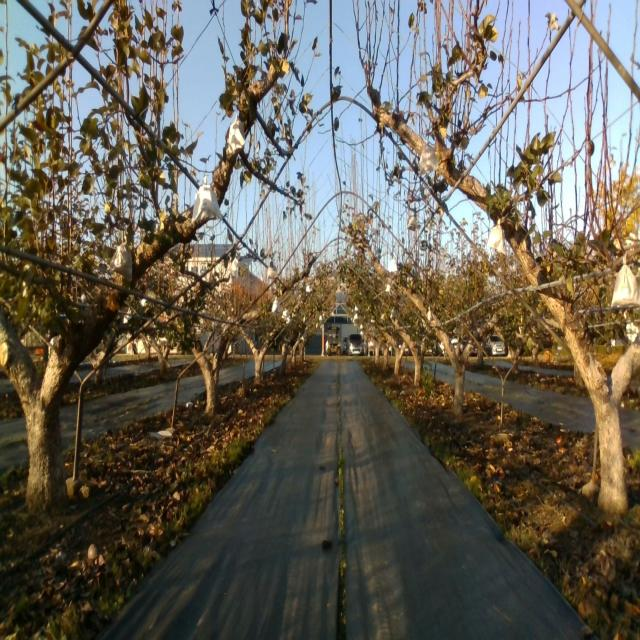pearbags: (609, 256, 640, 311), (191, 176, 223, 224), (110, 240, 132, 280), (486, 218, 506, 255), (228, 118, 245, 156), (419, 144, 437, 178)
